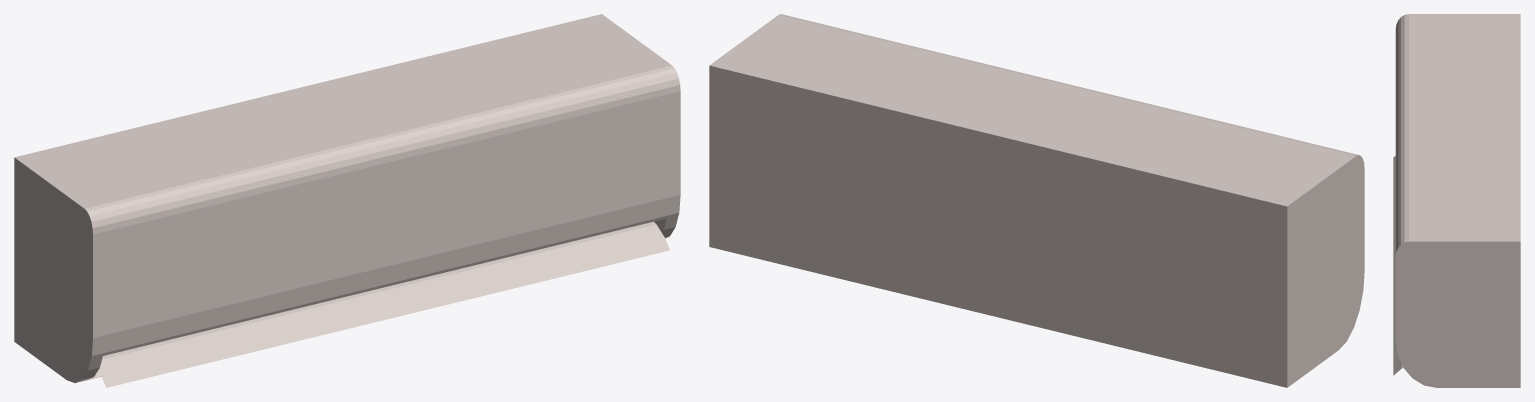
The picture shows the model from 3 angles, left to right: view 1: azimuth 30°, elevation 25°; view 2: azimuth 150°, elevation 25°; view 3: azimuth 270°, elevation 25°; orthographic projection. The views are drawn at different scales.
Parts seen in each view (by area): view 1: AC; view 2: AC; view 3: AC.
Part boxes in pixels (x1=…): AC: x1=14, y1=14, x2=680, y2=387; AC: x1=709, y1=14, x2=1364, y2=387; AC: x1=1393, y1=14, x2=1520, y2=387.
Bounding box in the file's own units: 353 × 106 × 83.33.
